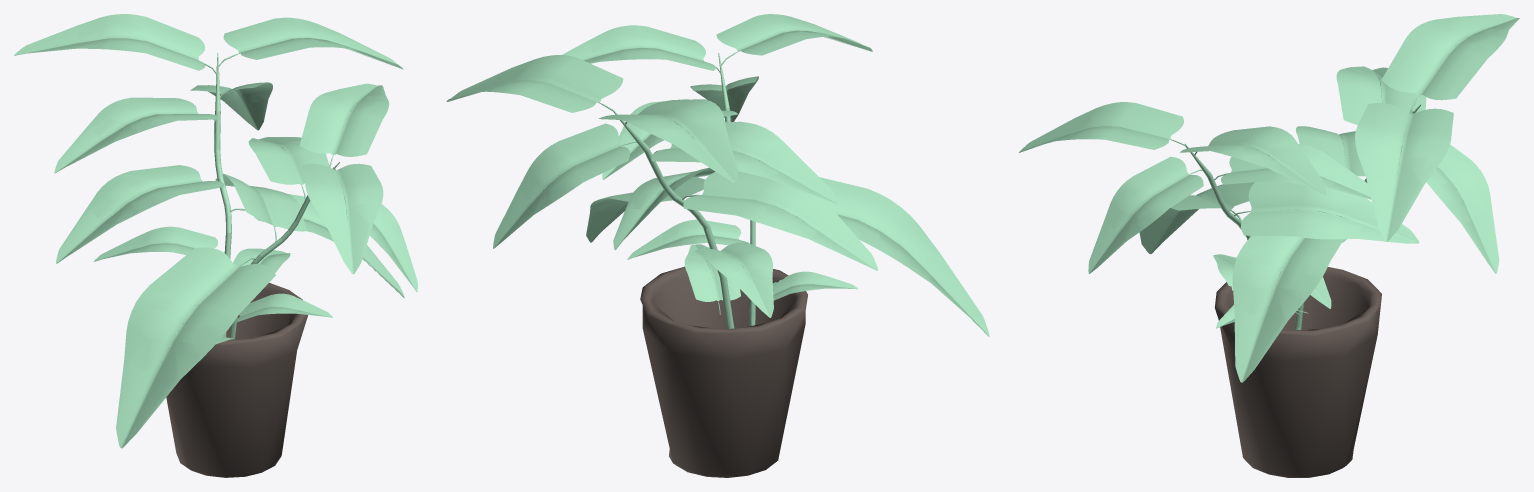
File: planta.glb
3 renders of one model, left to right at view 1: azimuth 30°, elevation 25°; view 2: azimuth 150°, elevation 25°; view 3: azimuth 270°, elevation 25°, orthographic. The views are drawn at different scales.
Visible parts, largest first — view 1: Plant, pot; view 2: Plant, pot; view 3: Plant, pot.
Boxes of the visible parts, left/top/right/bottom form: Plant: left=14, top=14, right=417, bottom=448; pot: left=166, top=283, right=307, bottom=477; Plant: left=446, top=14, right=989, bottom=336; pot: left=640, top=266, right=807, bottom=477; Plant: left=1019, top=14, right=1519, bottom=382; pot: left=1214, top=267, right=1381, bottom=477.
Bounding box in the file's own units: 5.56 × 5.11 × 5.75.
